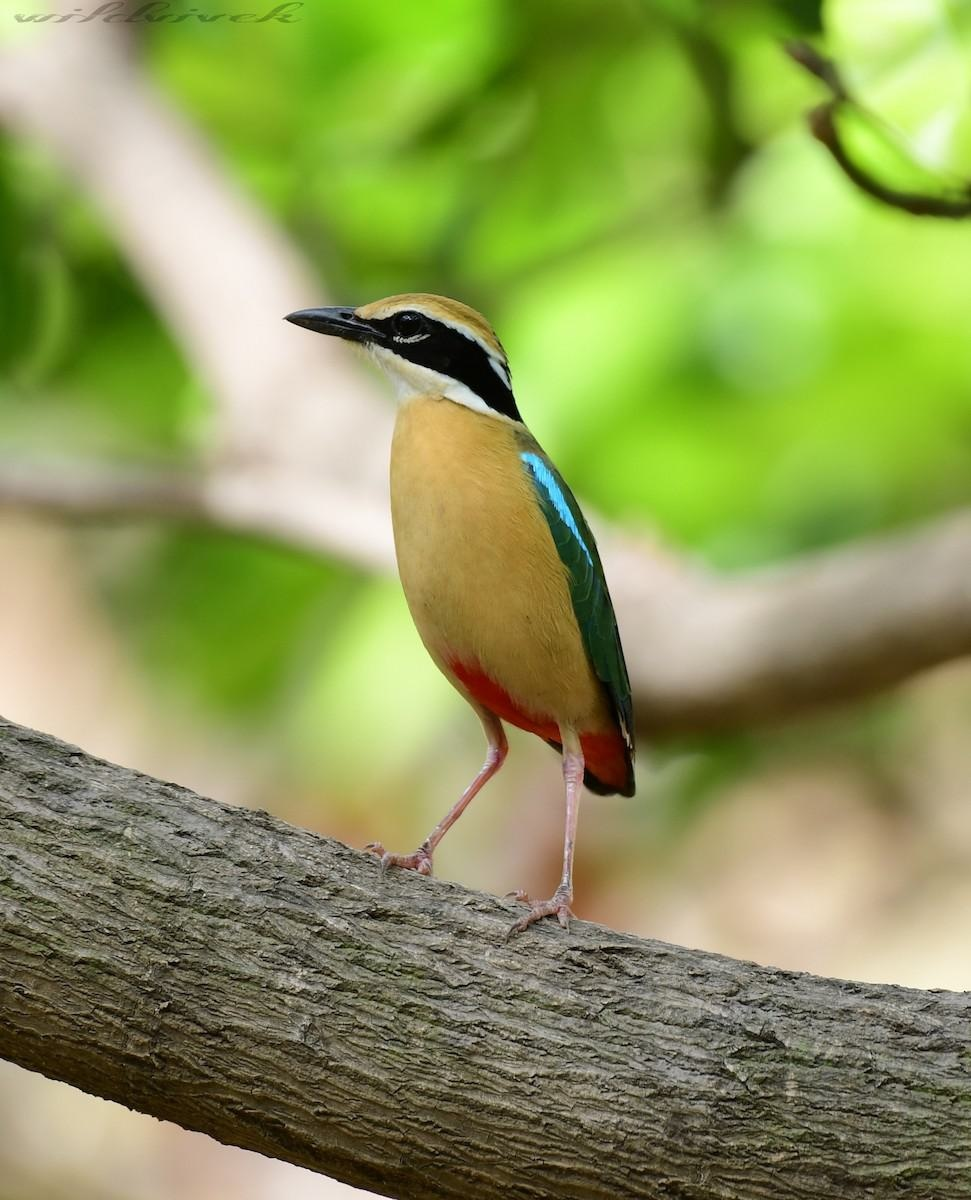pitta: (280, 260, 651, 940)
